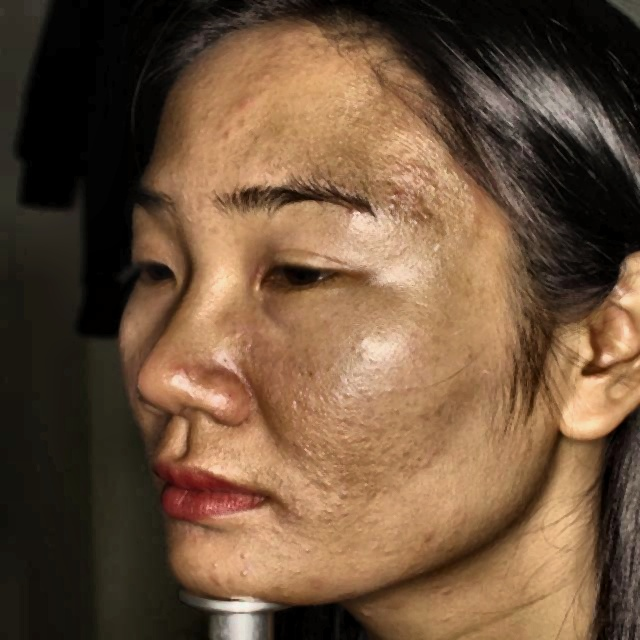comedone: (395, 184, 440, 225), (223, 95, 262, 120)
